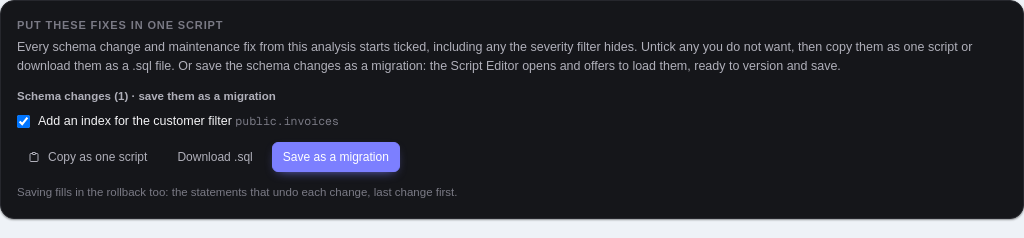
Test: copying the script › is dead with nothing ticked, and says what to do about it
The image size is (1024, 238).
Click the checkbox at [24, 121], box x1=17 y1=114 x2=30 y2=128
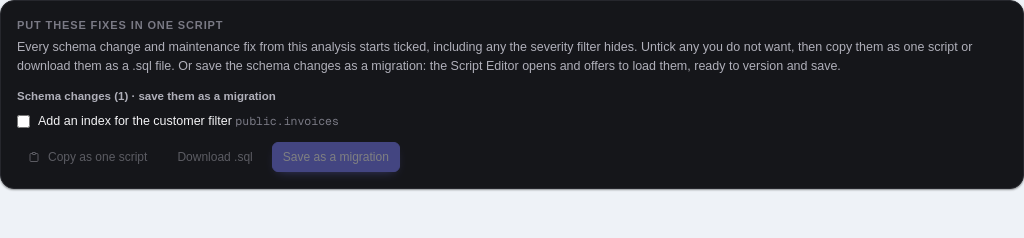
Result: the button "Copy as one script" is disabled at x1=17 y1=142 x2=158 y2=172
Result: the button "Download .sql" is disabled at x1=166 y1=142 x2=264 y2=172
